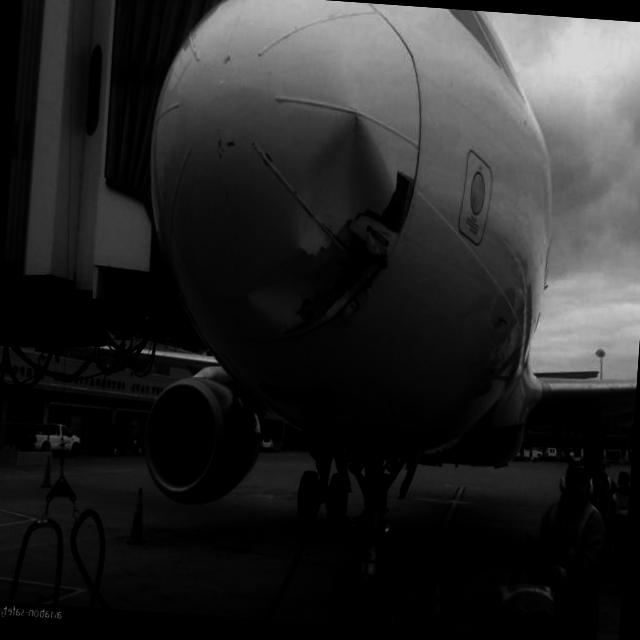dent: (296, 107, 400, 255), (242, 250, 314, 324)
